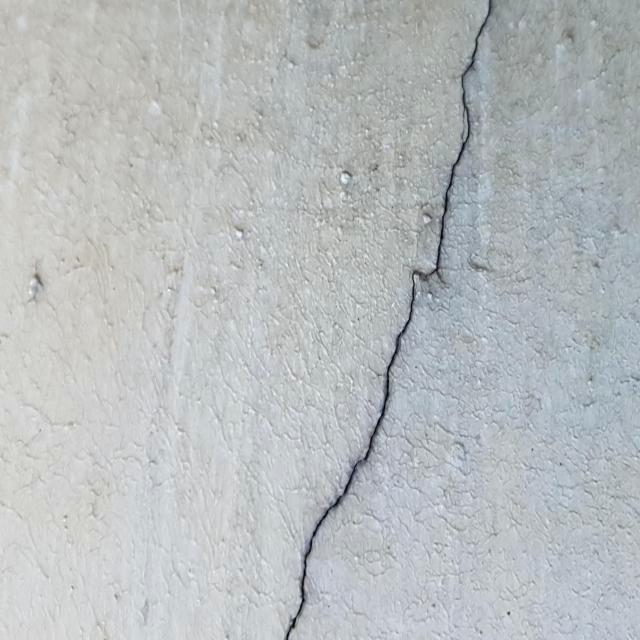SurfaceCrack: (255, 1, 518, 640)
